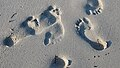human_footprint: (3, 5, 63, 46), (75, 17, 111, 49), (3, 16, 38, 46), (44, 6, 63, 44), (85, 0, 102, 14), (50, 56, 71, 67)
